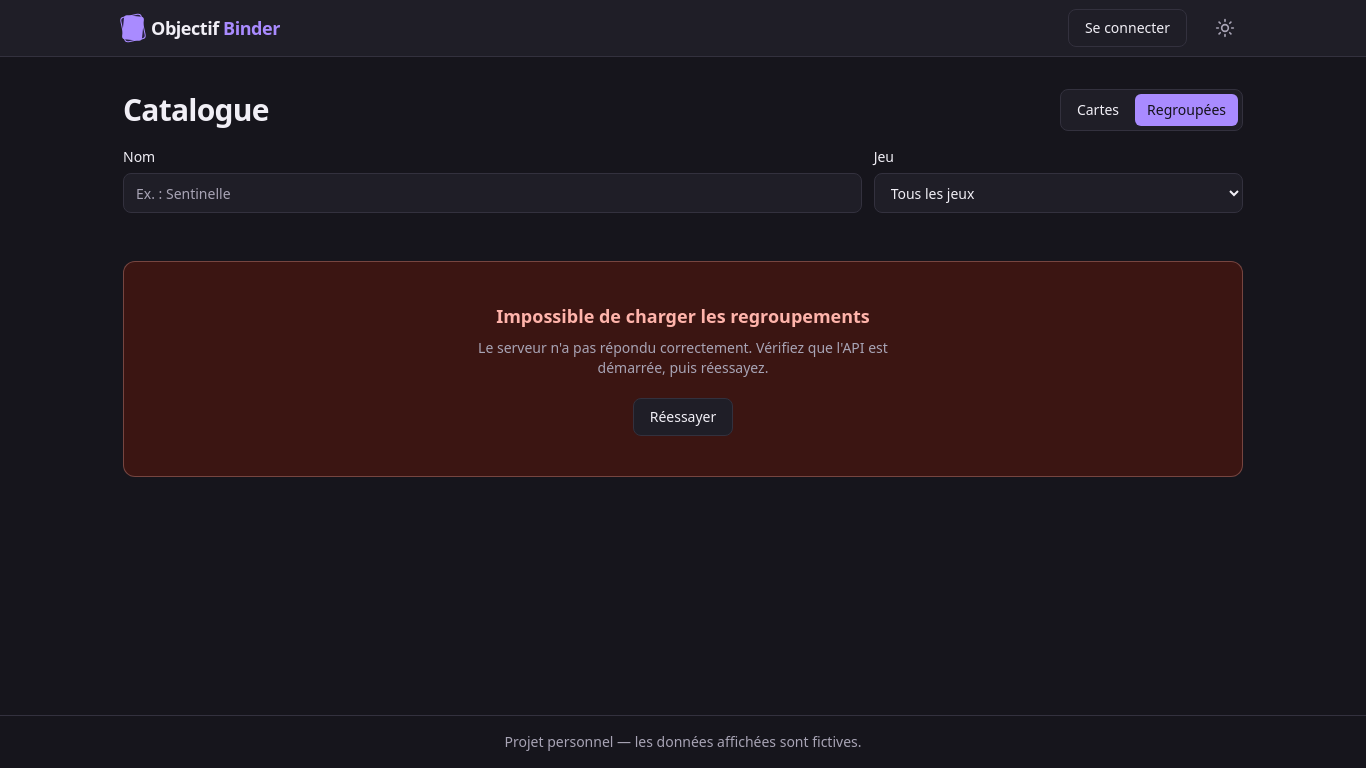
Scenario: grouped catalogue (one entry per identity) › reports a list that cannot be loaded and recovers when retrying
Expected: the message that starts with "Impossible de charger les regroupements" is shown, [496,304,870,328]
Step 1. Click the button "Réessayer" → x=683, y=417, box [633,398,733,436]
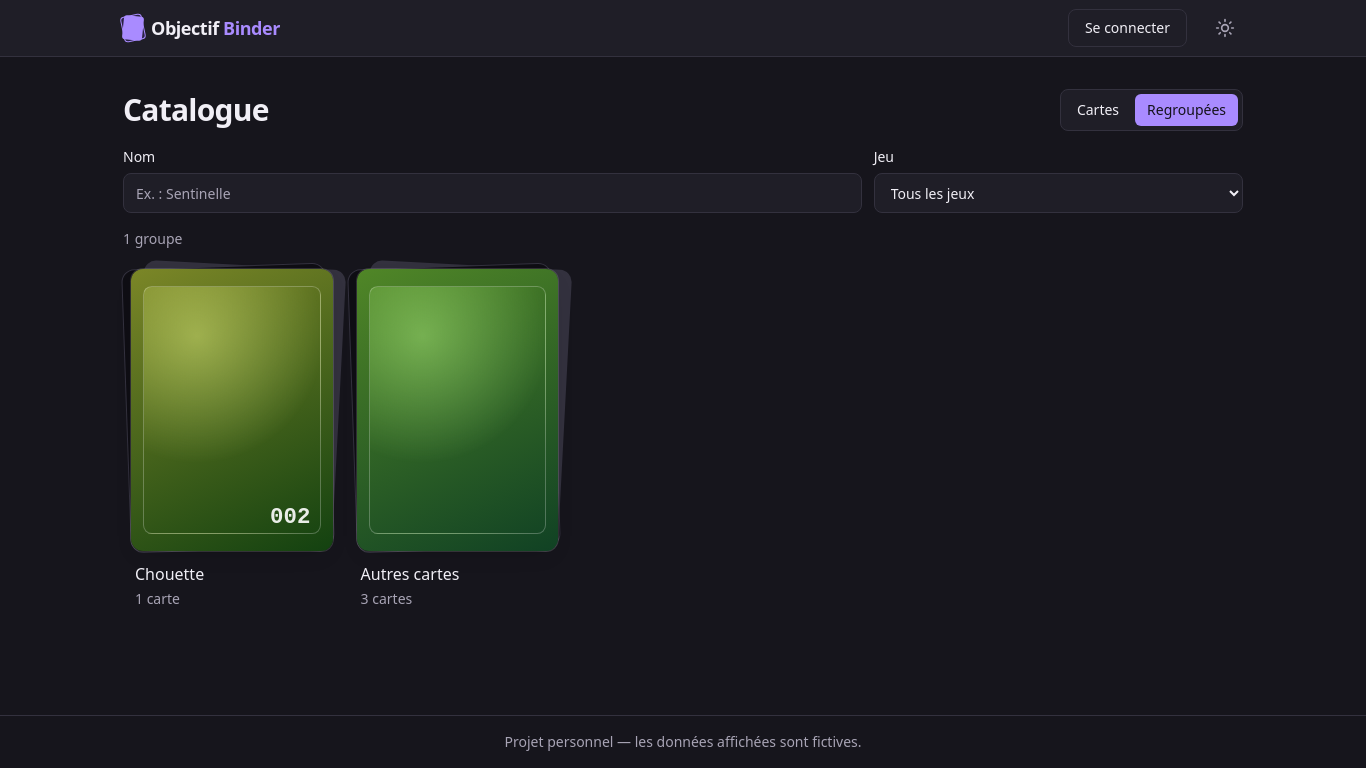
Expected: the heading "Chouette" is shown, [135,563,204,585]
